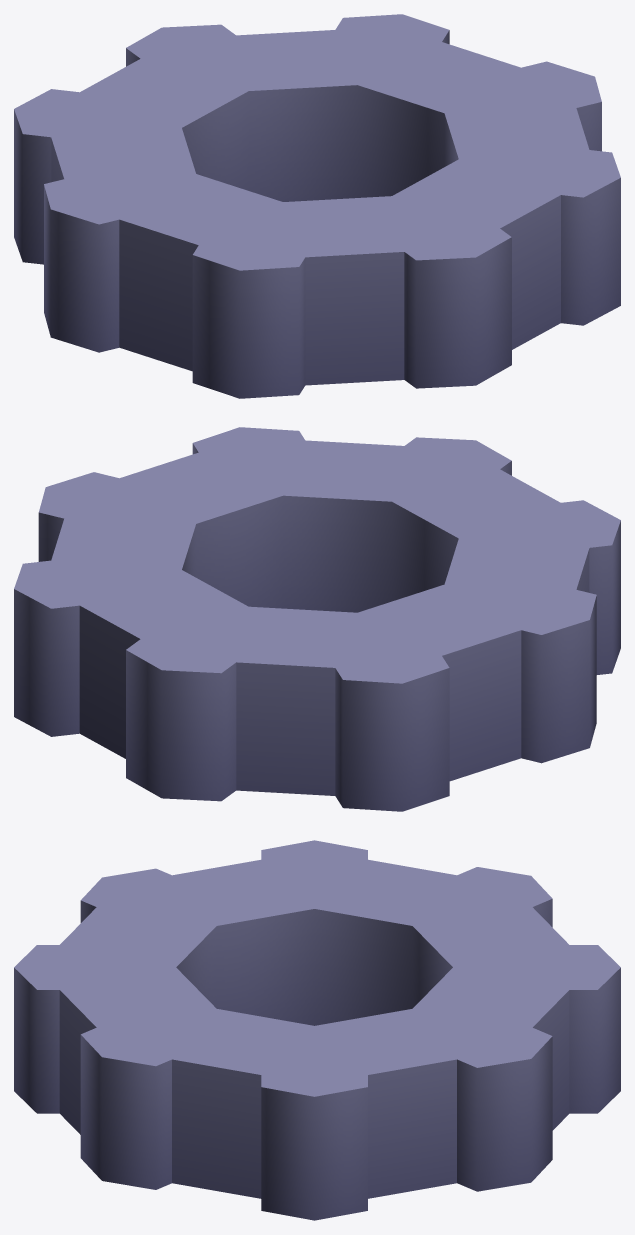
Rendered from F_cog-b.obj.
3 renders of one model, top to bottom at view 1: azimuth 30°, elevation 25°; view 2: azimuth 150°, elevation 25°; view 3: azimuth 270°, elevation 25°, orthographic. The views are drawn at different scales.
Parts seen in each view (by area): view 1: cog-b; view 2: cog-b; view 3: cog-b.
Boxes of the visible parts, x1=… form: cog-b: x1=14, y1=14, x2=620, y2=398; cog-b: x1=14, y1=427, x2=620, y2=811; cog-b: x1=14, y1=840, x2=620, y2=1220.
Size of the model in its own units: 1 by 0.225 by 1.
1 material, 1 textured.
